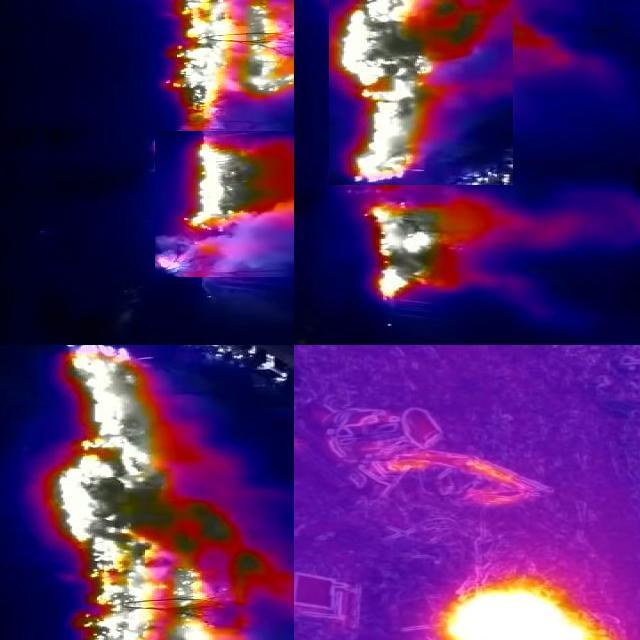fire: (51, 346, 272, 640), (330, 1, 514, 185), (156, 131, 295, 277), (145, 1, 295, 122), (367, 199, 482, 302), (436, 583, 640, 640)
